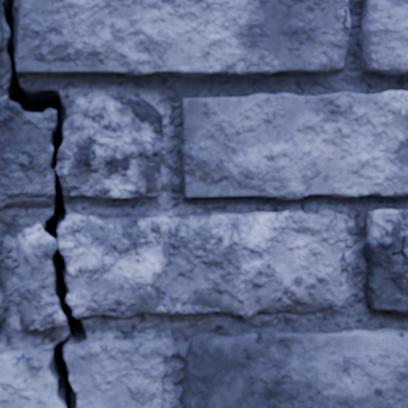brick: (16, 0, 348, 77), (180, 91, 407, 199), (183, 329, 407, 407), (363, 210, 407, 312), (359, 0, 407, 74), (0, 291, 8, 326), (0, 16, 2, 42), (346, 13, 349, 26), (0, 237, 2, 253)
broken_brick: (57, 208, 348, 320), (58, 90, 163, 199), (64, 337, 166, 407), (0, 100, 54, 208), (16, 222, 65, 330), (0, 348, 61, 407)
crack: (2, 0, 88, 407), (391, 234, 407, 259), (342, 8, 349, 30), (17, 252, 20, 270), (18, 237, 20, 245), (145, 310, 151, 312)
